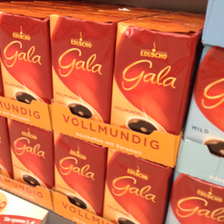coffee: (109, 18, 200, 137), (49, 10, 124, 124), (102, 147, 170, 224), (1, 7, 53, 102), (53, 128, 108, 216), (7, 117, 55, 190)
